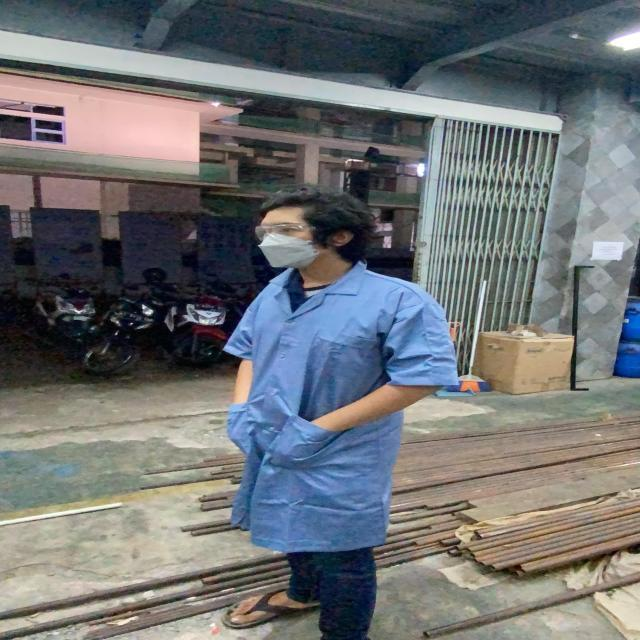glasses: (247, 222, 327, 241)
